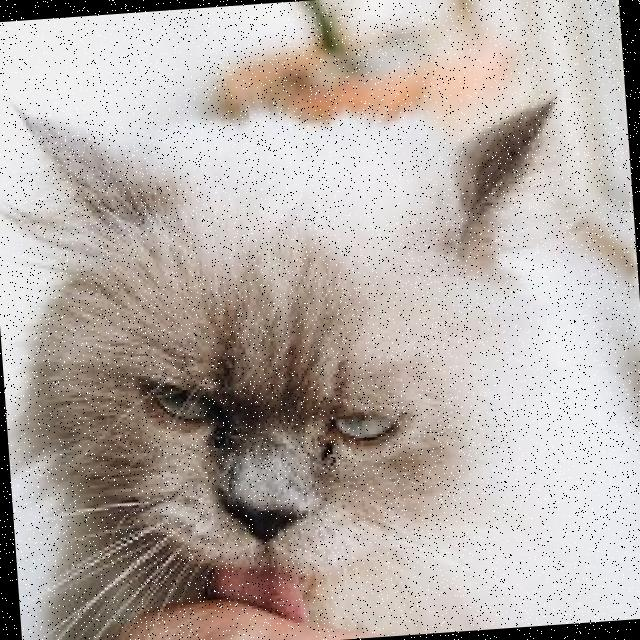Sad: (108, 309, 455, 640)
